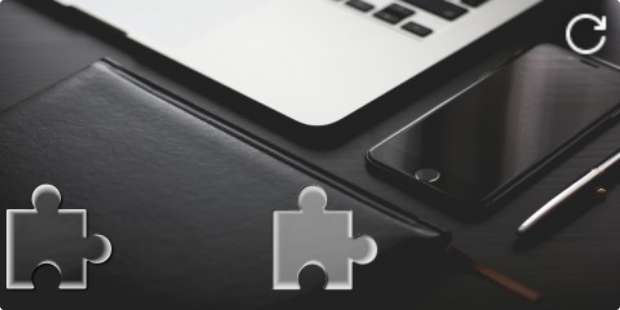target: (273, 185, 377, 290)
